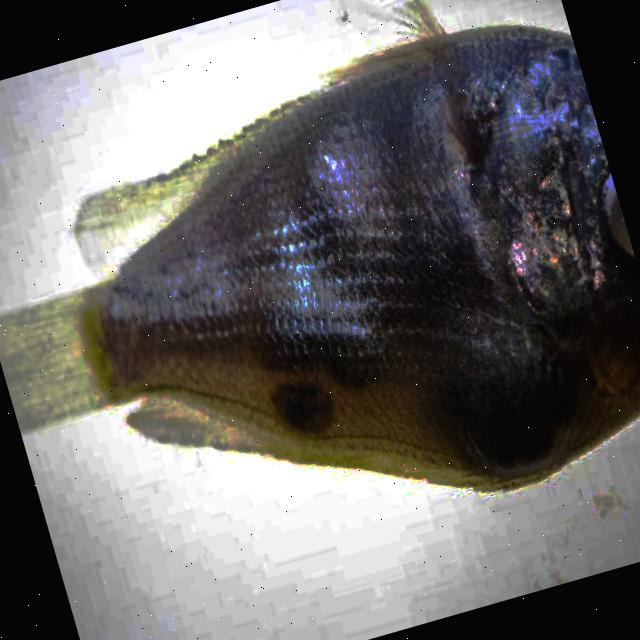Epizootic Ulcerative Syndrome -EUS-: (82, 29, 640, 488)
